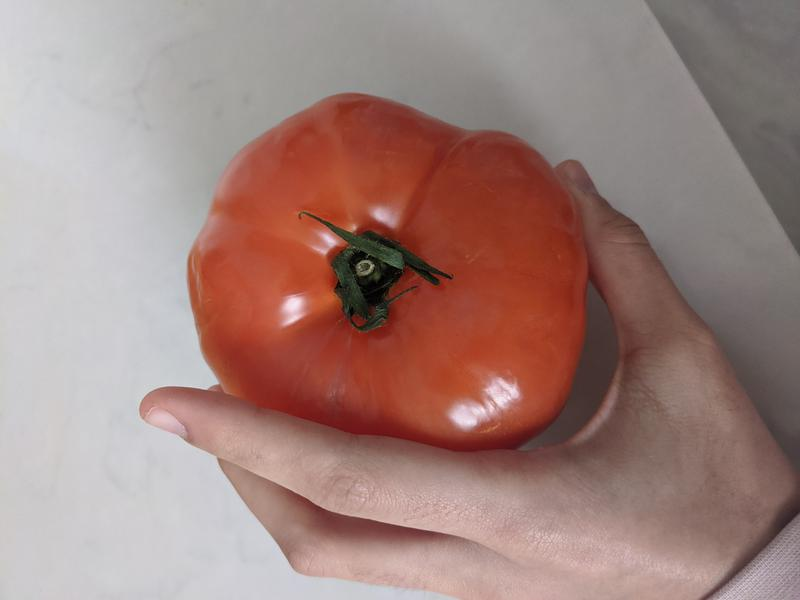tomato: (186, 92, 589, 452)
